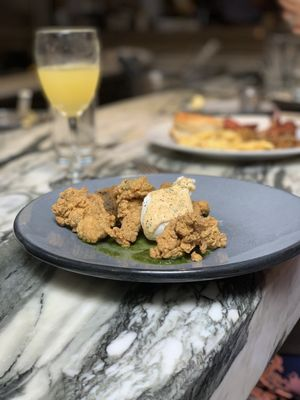curry: (0, 73, 300, 400)
sandwich: (34, 26, 103, 181), (169, 110, 300, 151)
sushi: (51, 175, 158, 247)
